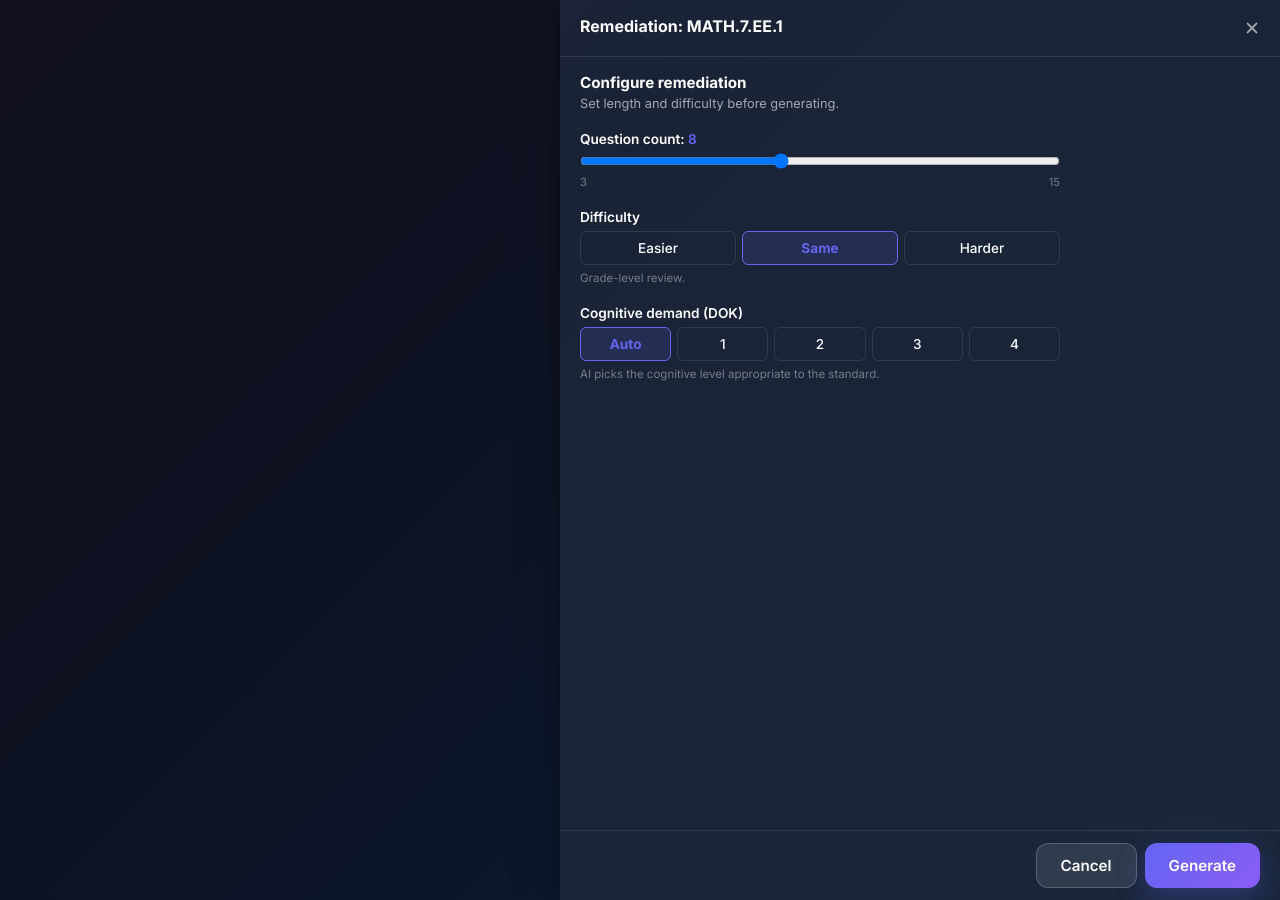
Test case: RemediationDrawer mounts with content from every extracted section › Generate posts config payload and renders the shared preview (lesson, question cards, footer)
Click the button "Generate". click: (1202, 866)
box: x1=1145 y1=843 x2=1260 y2=888
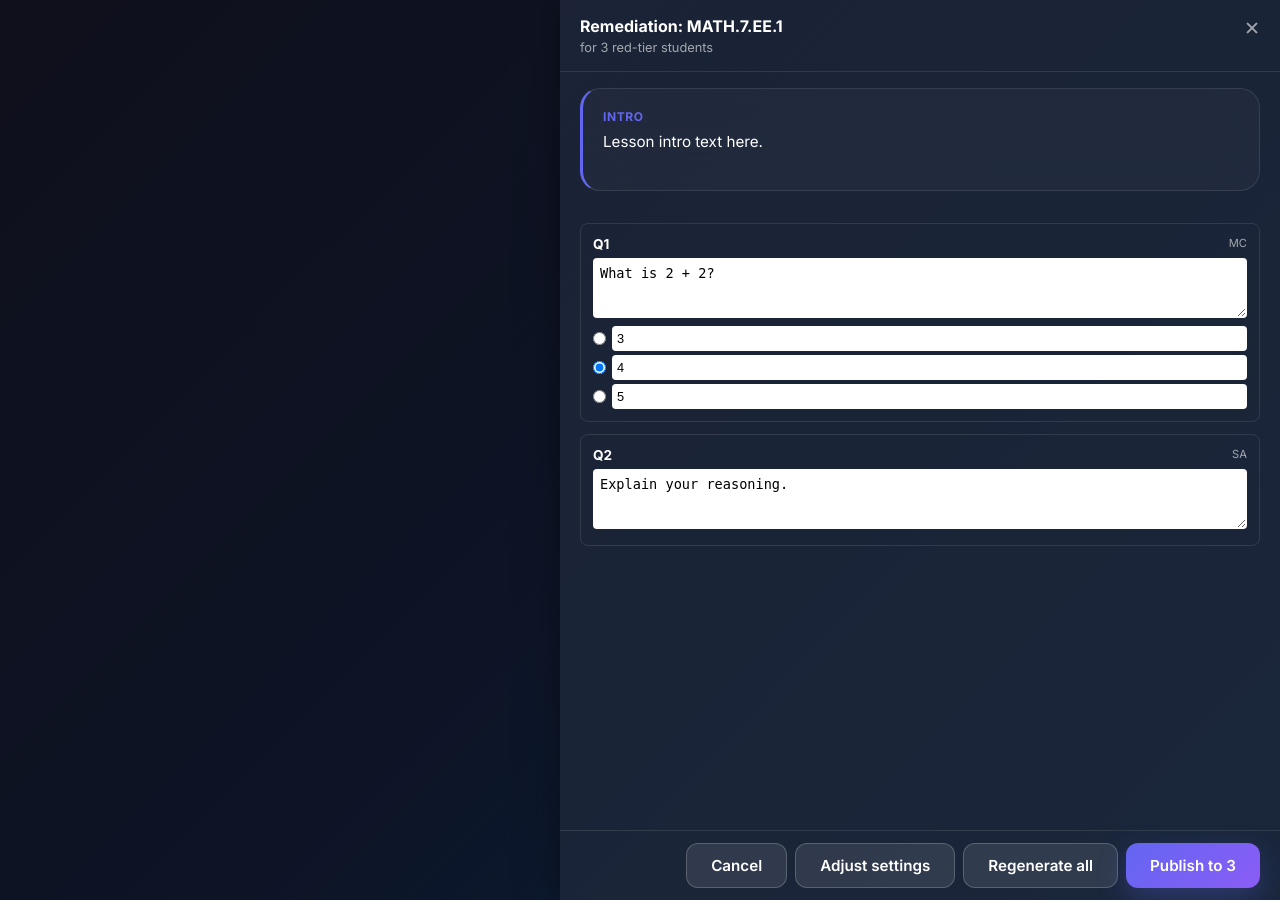
Result: the text "Q1" is shown at x1=593 y1=236 x2=609 y2=252
Result: the text "Lesson intro text here." is shown at x1=603 y1=132 x2=763 y2=151
Result: the text box showing "What is 2 + 2?" below "MC" is shown at x1=593 y1=258 x2=1247 y2=318
